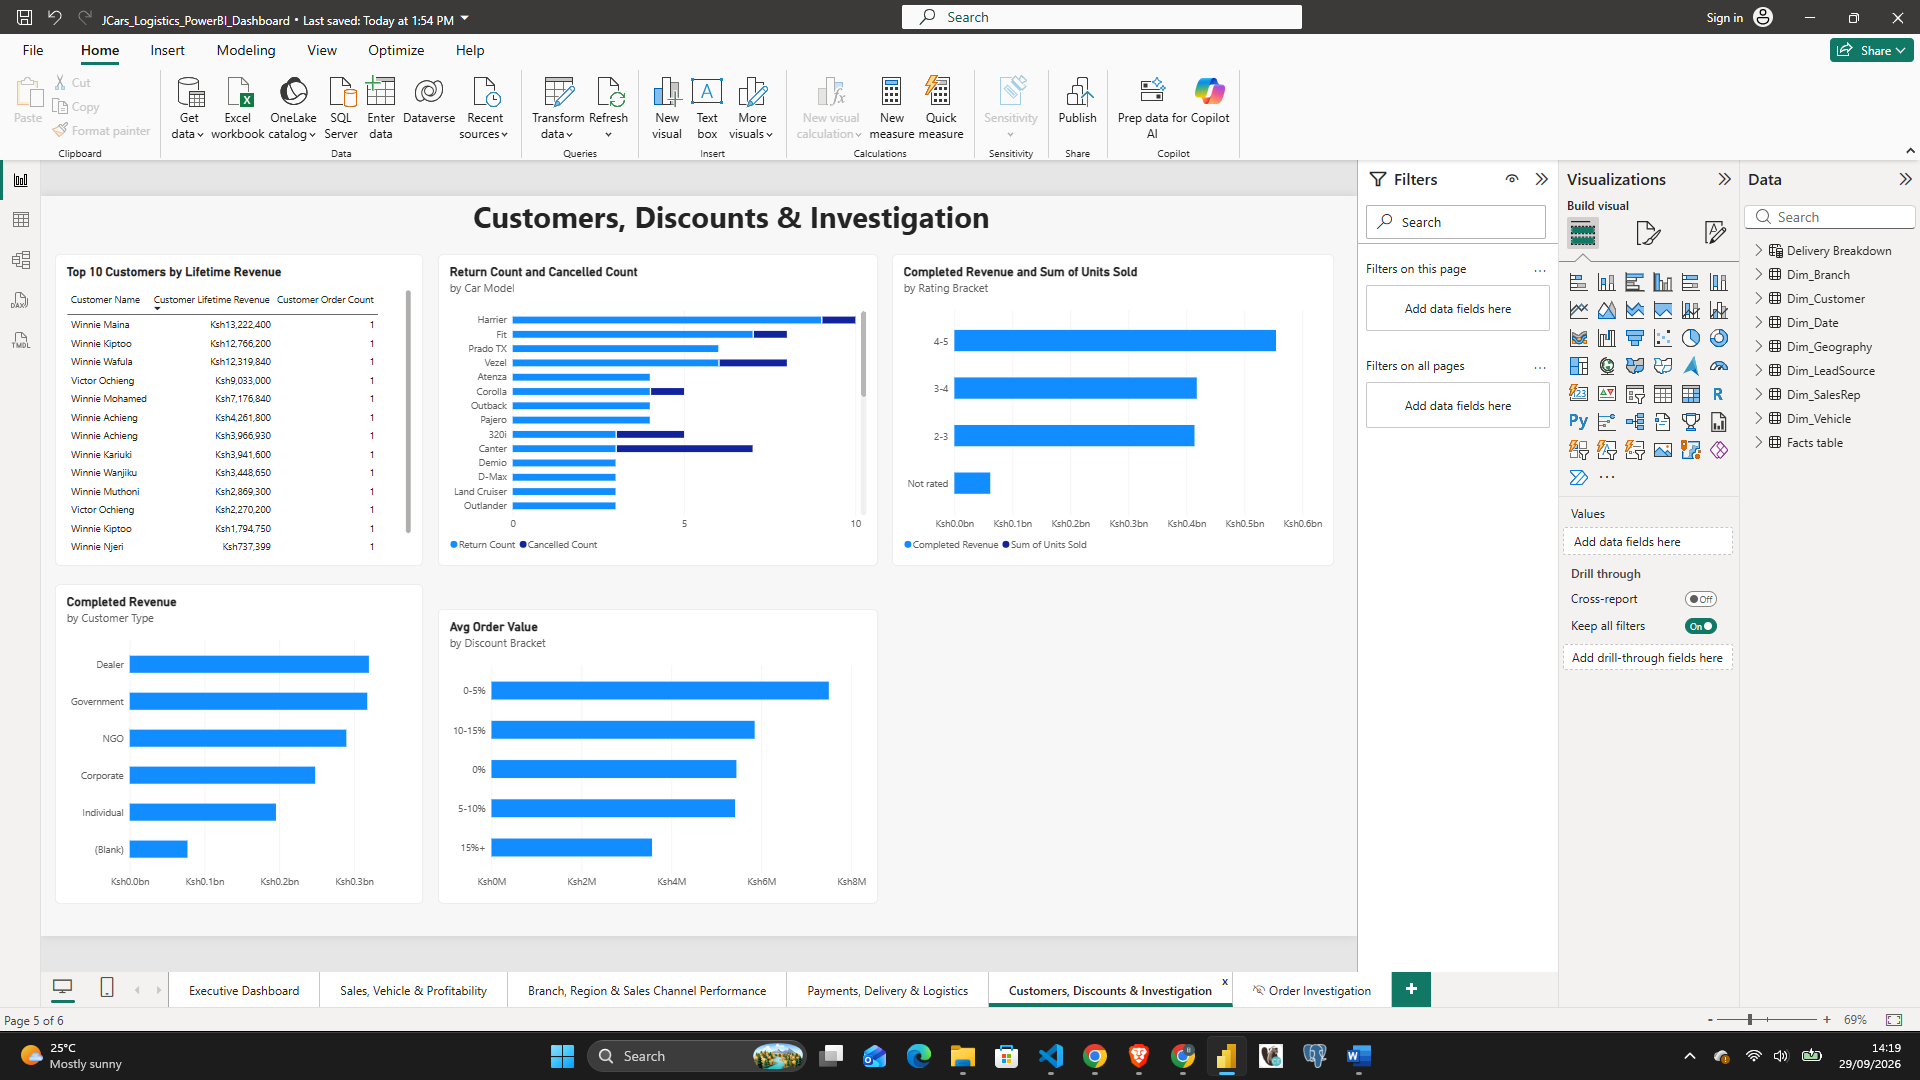

What the dashboard file says about the page in this screenshot:
{"tool":"powerbi","page":{"name":"Customers, Discounts & Investigation","canvas":[1920,1080],"ordinal":4},"visuals":[{"type":"tableEx","title":"Top 10 Customers by Lifetime Revenue","fields":{"Values":["Dim_Customer.Customer Name","Dim_Customer.Customer Lifetime Revenue","Dim_Customer.Customer Order Count"]},"box":[20.4,84.6,536.9,455.2],"z":0},{"type":"barChart","fields":{"Category":["Dim_Customer.Customer Type"],"Y":["Facts table.Completed Revenue"]},"box":[20.4,566.1,536.9,466.9],"z":1000},{"type":"barChart","fields":{"Category":["Facts table.Discount Bracket"],"Y":["Facts table.Avg Order Value"]},"box":[579.2,602.6,641.9,430.4],"z":2000},{"type":"barChart","fields":{"Category":["Facts table.Rating Bracket"],"Y":["Facts table.Completed Revenue","Sum(Facts table.Units Sold)"]},"box":[1241.6,84.6,644.9,455.2],"z":3000},{"type":"barChart","fields":{"Category":["Dim_Vehicle.Car Model"],"Y":["Facts table.Return Count","Facts table.Cancelled Count"]},"box":[579.2,84.6,641.9,455.2],"z":4000},{"type":"textbox","box":[459.6,0,1095.7,84.6],"z":4001}]}

Visuals, with their boxes on the page's 1920x1080 design canvas (x1, y1, x2, y2). These are canvas units, not pixel positions in the 1920x1080 screenshot, which may show the page scaled, cropped or inside an application window:
"Top 10 Customers by Lifetime Revenue" tableEx: crop(20, 85, 557, 540)
barChart - Dim_Customer.Customer Type x Facts table.Completed Revenue: crop(20, 566, 557, 1033)
barChart - Facts table.Discount Bracket x Facts table.Avg Order Value: crop(579, 603, 1221, 1033)
barChart - Facts table.Rating Bracket x Facts table.Completed Revenue: crop(1242, 85, 1886, 540)
barChart - Dim_Vehicle.Car Model x Facts table.Return Count: crop(579, 85, 1221, 540)
textbox: crop(460, 0, 1555, 85)
